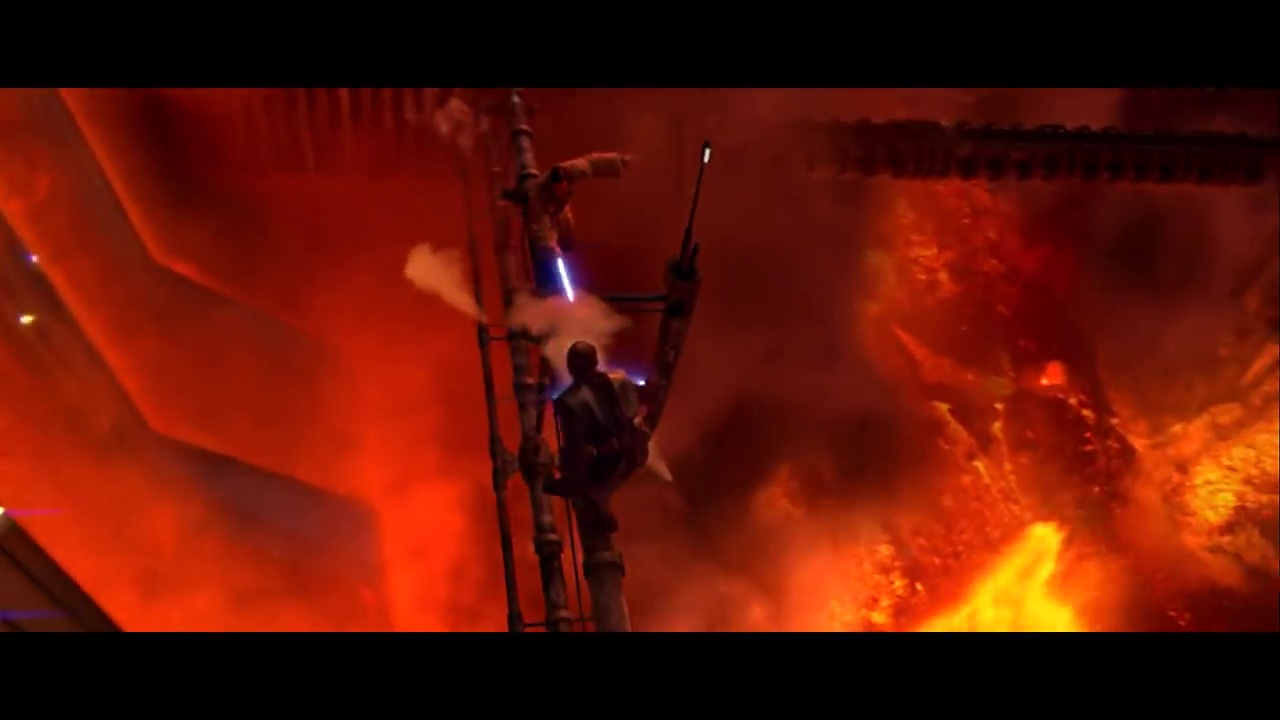lightsaber: (545, 250, 584, 308)
